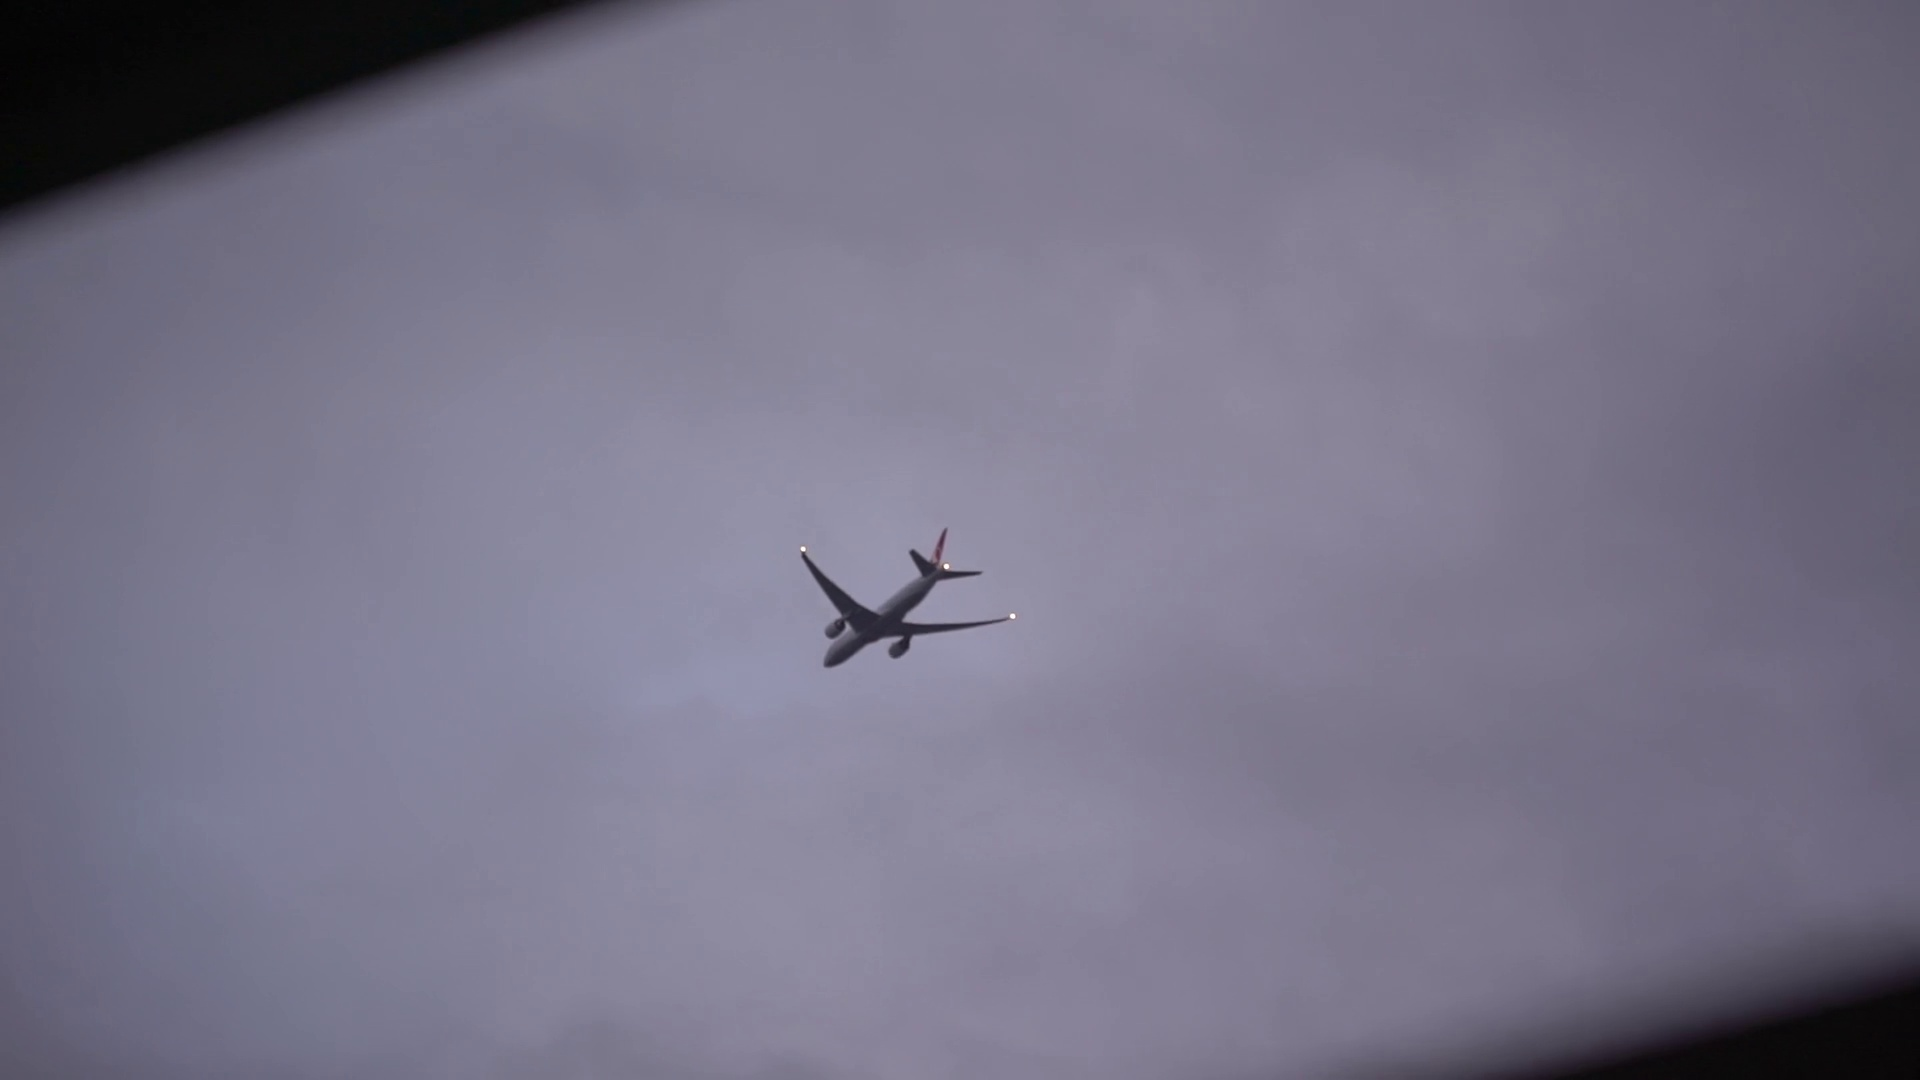plane: (798, 527, 1015, 669)
